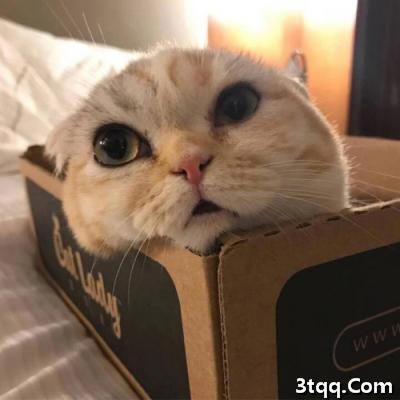cat: (42, 44, 360, 269)
